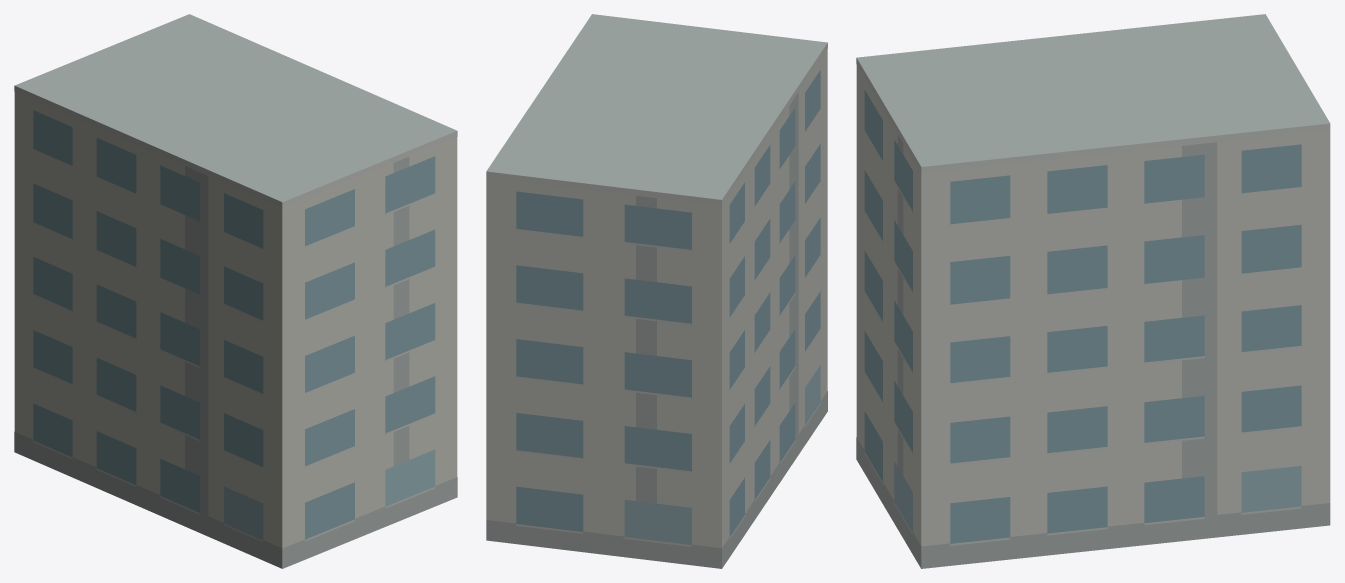
The model's file is survey-upis-32803194.glb.
The picture shows the model from 3 angles, left to right: view 1: azimuth 30°, elevation 25°; view 2: azimuth 150°, elevation 25°; view 3: azimuth 270°, elevation 25°; orthographic projection. The views are drawn at different scales.
Parts seen in each view (by area): view 1: survey-upis-32803194.tmp; view 2: survey-upis-32803194.tmp; view 3: survey-upis-32803194.tmp.
Part boxes in pixels (x1,y1,x2,y2): survey-upis-32803194.tmp: (14,14,457,568); survey-upis-32803194.tmp: (486,14,827,568); survey-upis-32803194.tmp: (856,14,1330,568).
Bounding box in the file's own units: 11.93 × 14.6 × 15.61.
